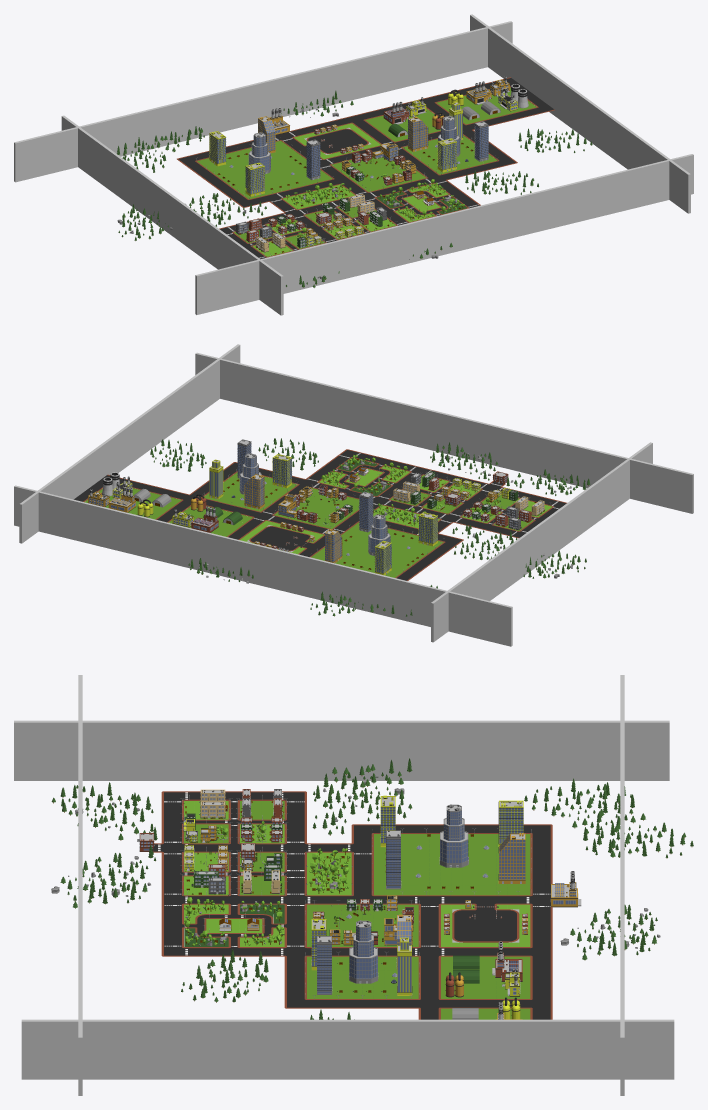
File: game_level.fbx
The picture shows the model from 3 angles, top to bottom: view 1: azimuth 30°, elevation 25°; view 2: azimuth 150°, elevation 25°; view 3: azimuth 270°, elevation 25°; orthographic projection. The views are drawn at different scales.
Visible parts, largest first — view 1: Cube.002, Cube.003, Cube, Cube.001, Skyscraper4_3, Skyscraper1_2, Skyscraper1_2.002, Skyscraper5_1.001, Factory3_1, Skyscraper2_1.001, Skyscraper2_1, Skyscraper1_2.001; view 2: Cube.003, Cube.002, Cube, Cube.001, Skyscraper4_3, Skyscraper1_2, Skyscraper1_2.002, Skyscraper5_1.001, Skyscraper2_1.001, Skyscraper4_3.001, Skyscraper1_2.001, Skyscraper3_2 (+2 smaller); view 3: Cube.001, Cube, Cube.002, Cube.003, Skyscraper5_1.001, Skyscraper5_1, Skyscraper4_3.001, Skyscraper1_2.001, Skyscraper2_1.001, Skyscraper2_1, Skyscraper3_2, Factory2_2.001 (+4 smaller).
Part boxes in pixels (box(x1,y1,x2,y2)): Cube.002: box(195, 154, 693, 314); Cube.003: box(14, 21, 512, 182); Cube: box(61, 115, 283, 315); Cube.001: box(470, 14, 690, 213); Skyscraper4_3: box(408, 116, 428, 151); Skyscraper1_2: box(437, 138, 456, 172); Skyscraper1_2.002: box(245, 162, 264, 196); Skyscraper5_1.001: box(248, 132, 270, 173); Factory3_1: box(498, 84, 528, 111); Skyscraper2_1.001: box(306, 139, 320, 180); Skyscraper2_1: box(474, 121, 488, 161); Skyscraper1_2.001: box(209, 131, 225, 166); Cube.003: box(14, 485, 512, 646); Cube.002: box(195, 352, 693, 513); Cube: box(431, 442, 652, 642); Cube.001: box(19, 344, 240, 543); Skyscraper4_3: box(244, 474, 264, 509); Skyscraper1_2: box(272, 454, 291, 488); Skyscraper1_2.002: box(418, 512, 437, 546); Skyscraper5_1.001: box(368, 514, 390, 555); Skyscraper2_1.001: box(359, 491, 373, 532); Skyscraper4_3.001: box(325, 529, 342, 563); Skyscraper1_2.001: box(375, 540, 391, 575); Skyscraper3_2: box(209, 459, 223, 499); Cube.001: box(21, 1019, 674, 1079); Cube: box(14, 720, 669, 780); Cube.002: box(78, 675, 82, 1095); Cube.003: box(620, 675, 624, 1095); Skyscraper5_1.001: box(439, 804, 468, 867); Skyscraper5_1: box(349, 920, 378, 983); Skyscraper4_3.001: box(498, 833, 525, 883); Skyscraper1_2.001: box(498, 800, 523, 846); Skyscraper2_1.001: box(386, 830, 401, 889); Skyscraper2_1: box(317, 936, 332, 994); Skyscraper3_2: box(397, 937, 412, 995); Factory2_2.001: box(550, 871, 581, 907).
Bounding box in the file's own units: 38391 × 3157 × 30431.
3 materials, 1 textured.
